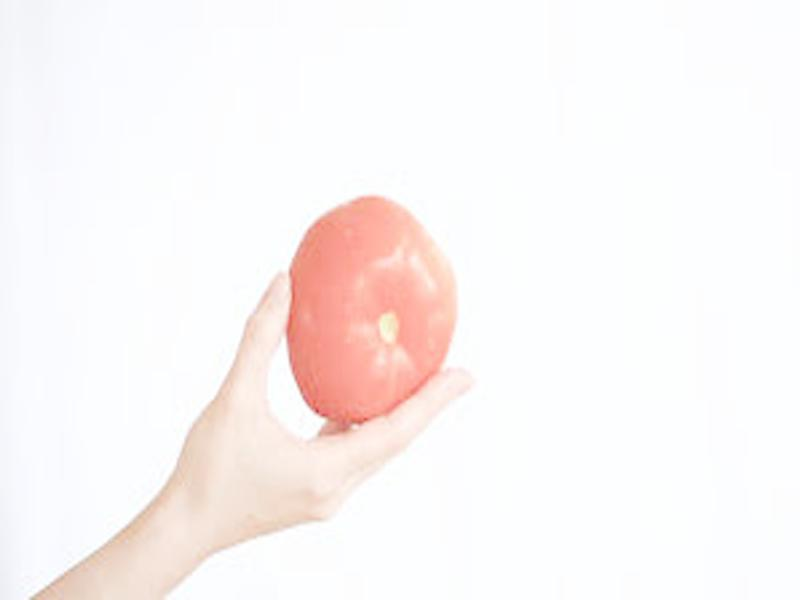Tomato: (286, 196, 458, 418)
